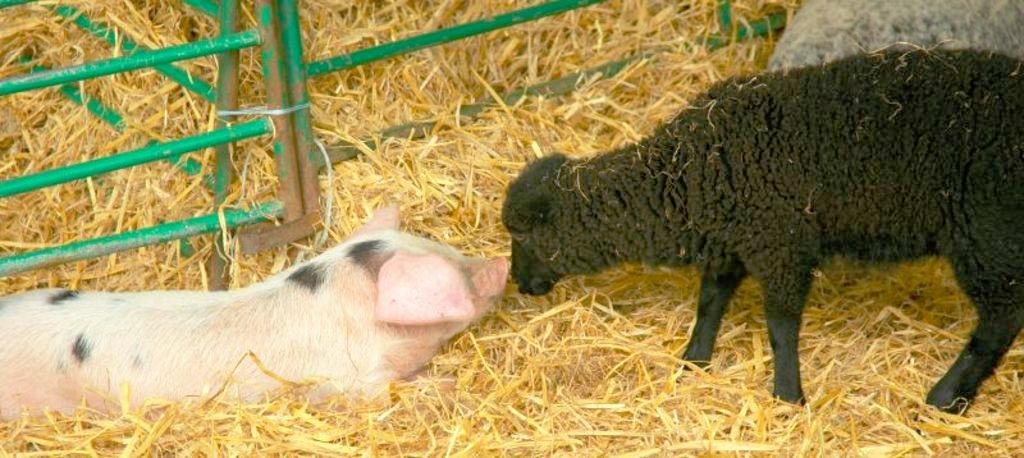Sheep: (499, 45, 1024, 416)
